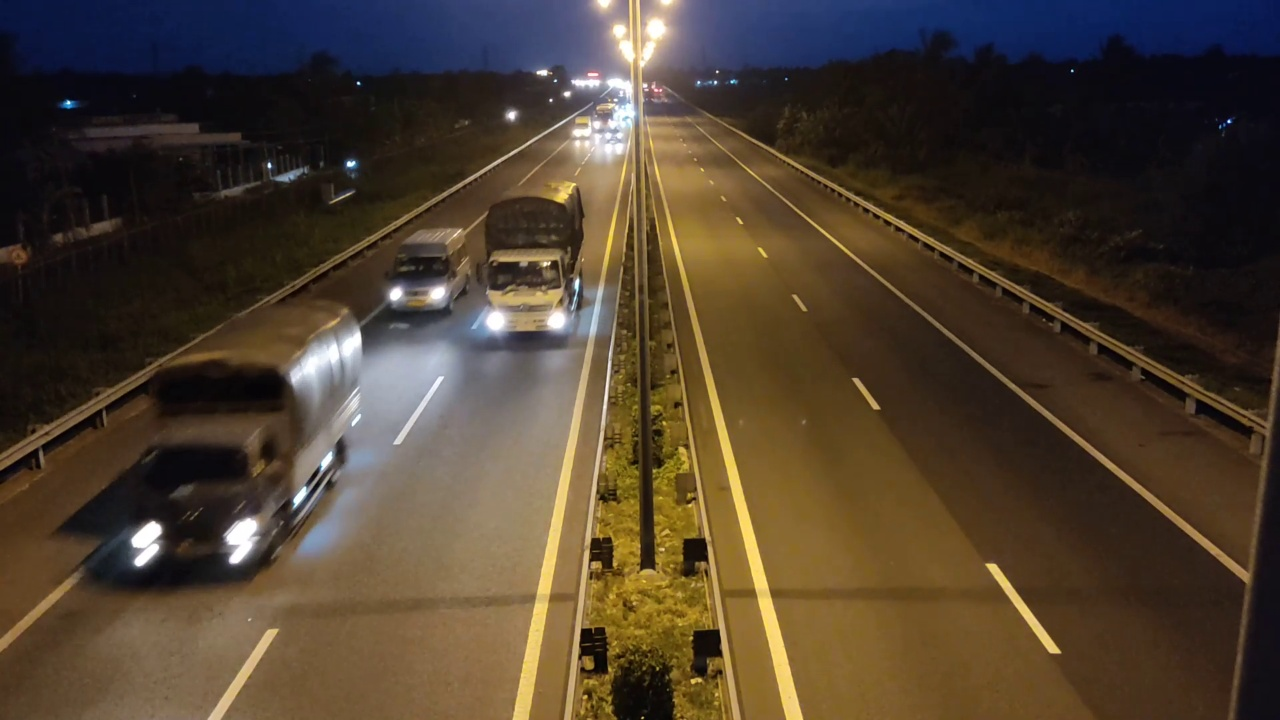car: (384, 218, 470, 323)
truck: (83, 296, 365, 585), (477, 178, 589, 344)
